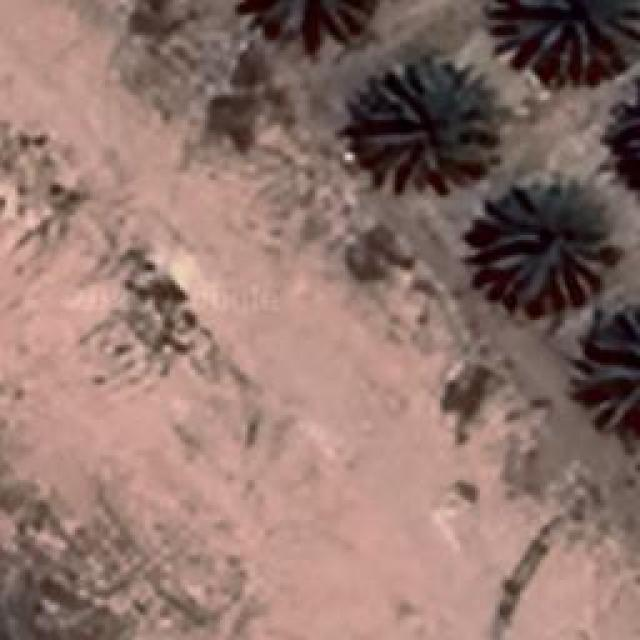PalmTree: (355, 62, 500, 190), (474, 182, 618, 310), (507, 0, 635, 70), (582, 302, 638, 430), (594, 75, 640, 209), (247, 0, 375, 40)
